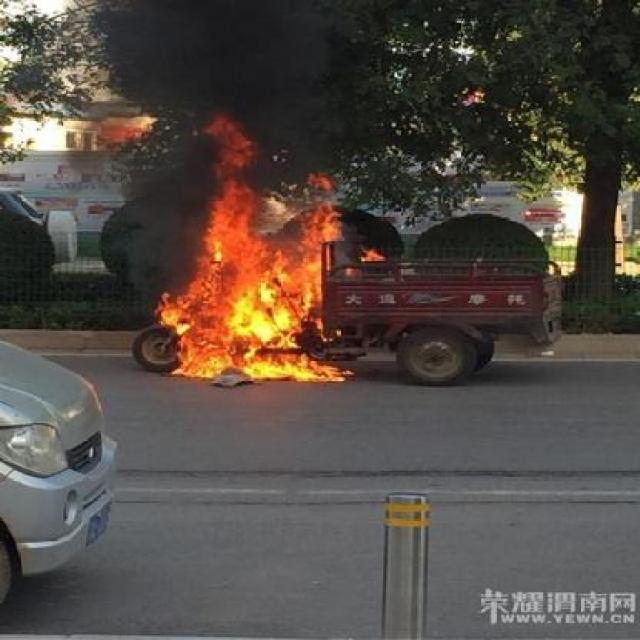Fire: (154, 111, 383, 390)
